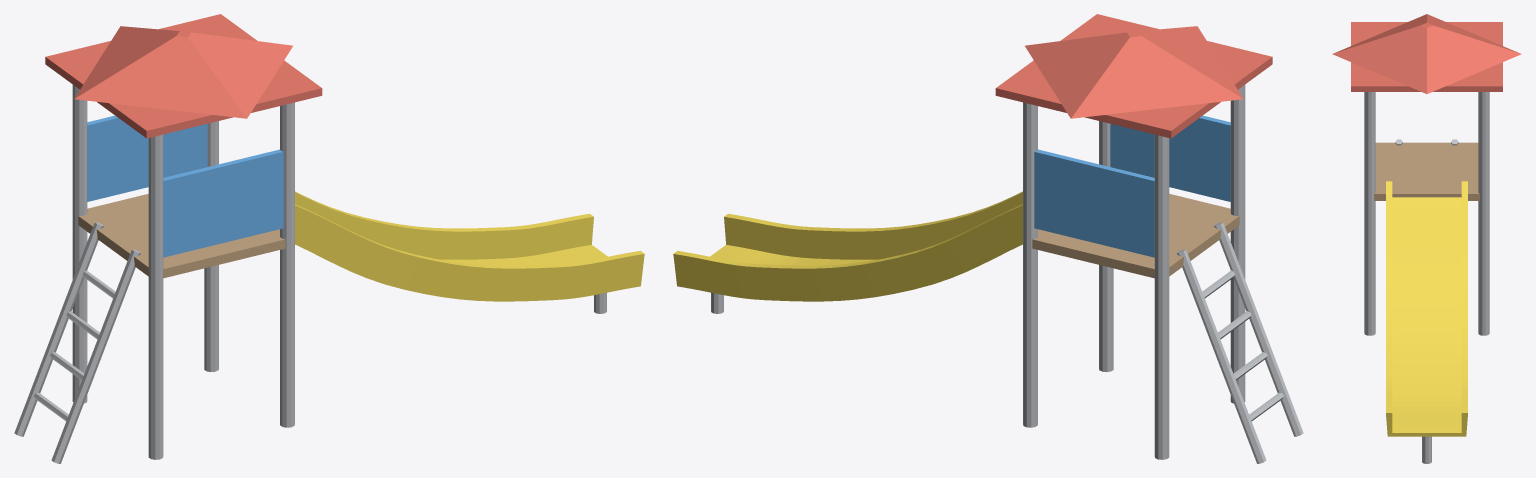
Rendered from slide.glb.
3 renders of one model, left to right at view 1: azimuth 30°, elevation 25°; view 2: azimuth 150°, elevation 25°; view 3: azimuth 270°, elevation 25°, orthographic. The views are drawn at different scales.
Visible parts, largest first — view 1: model; view 2: model; view 3: model.
Part boxes in pixels (x1,y1,x2,y2): model: (14, 14, 644, 463); model: (673, 14, 1303, 463); model: (1332, 14, 1521, 463).
Bounding box in the file's own units: 3.99 × 2.49 × 1.5.
